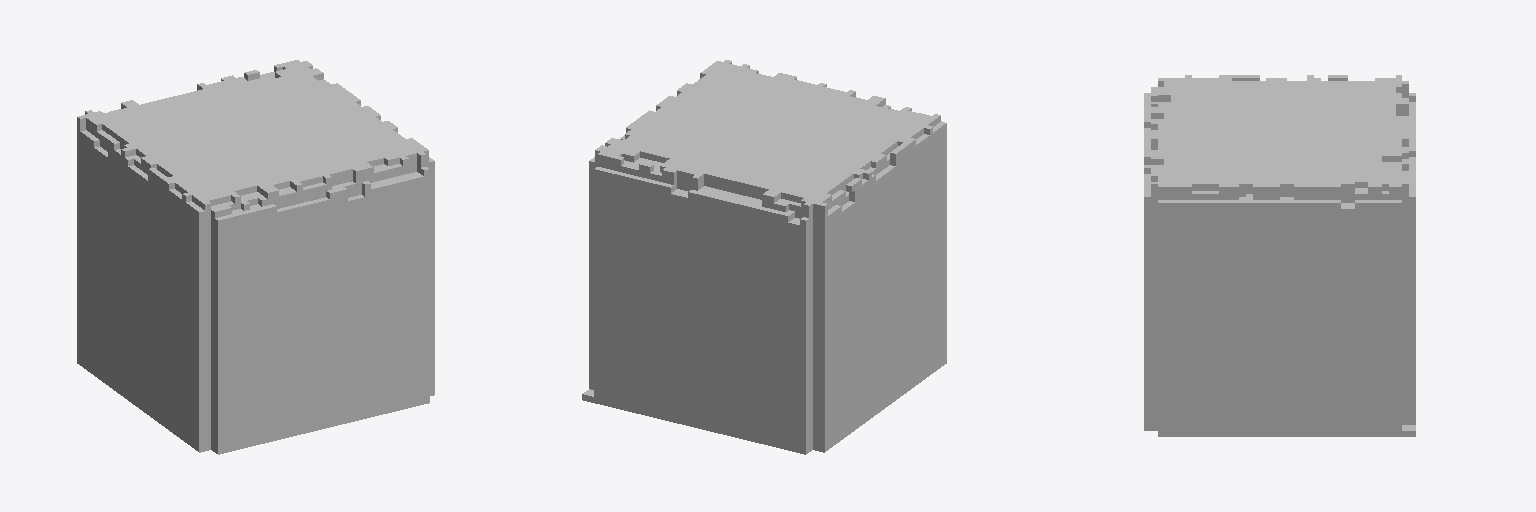
Rendered from button.obj.
3 renders of one model, left to right at view 1: azimuth 30°, elevation 25°; view 2: azimuth 150°, elevation 25°; view 3: azimuth 270°, elevation 25°, orthographic.
Visible parts, largest first — view 1: object 1; view 2: object 1; view 3: object 1.
Boxes of the visible parts, box(x1,y1,x2,y2) form: object 1: box(77, 60, 434, 454); object 1: box(582, 60, 946, 454); object 1: box(1144, 75, 1415, 436).
Bounding box in the file's own units: 4 × 4 × 4.